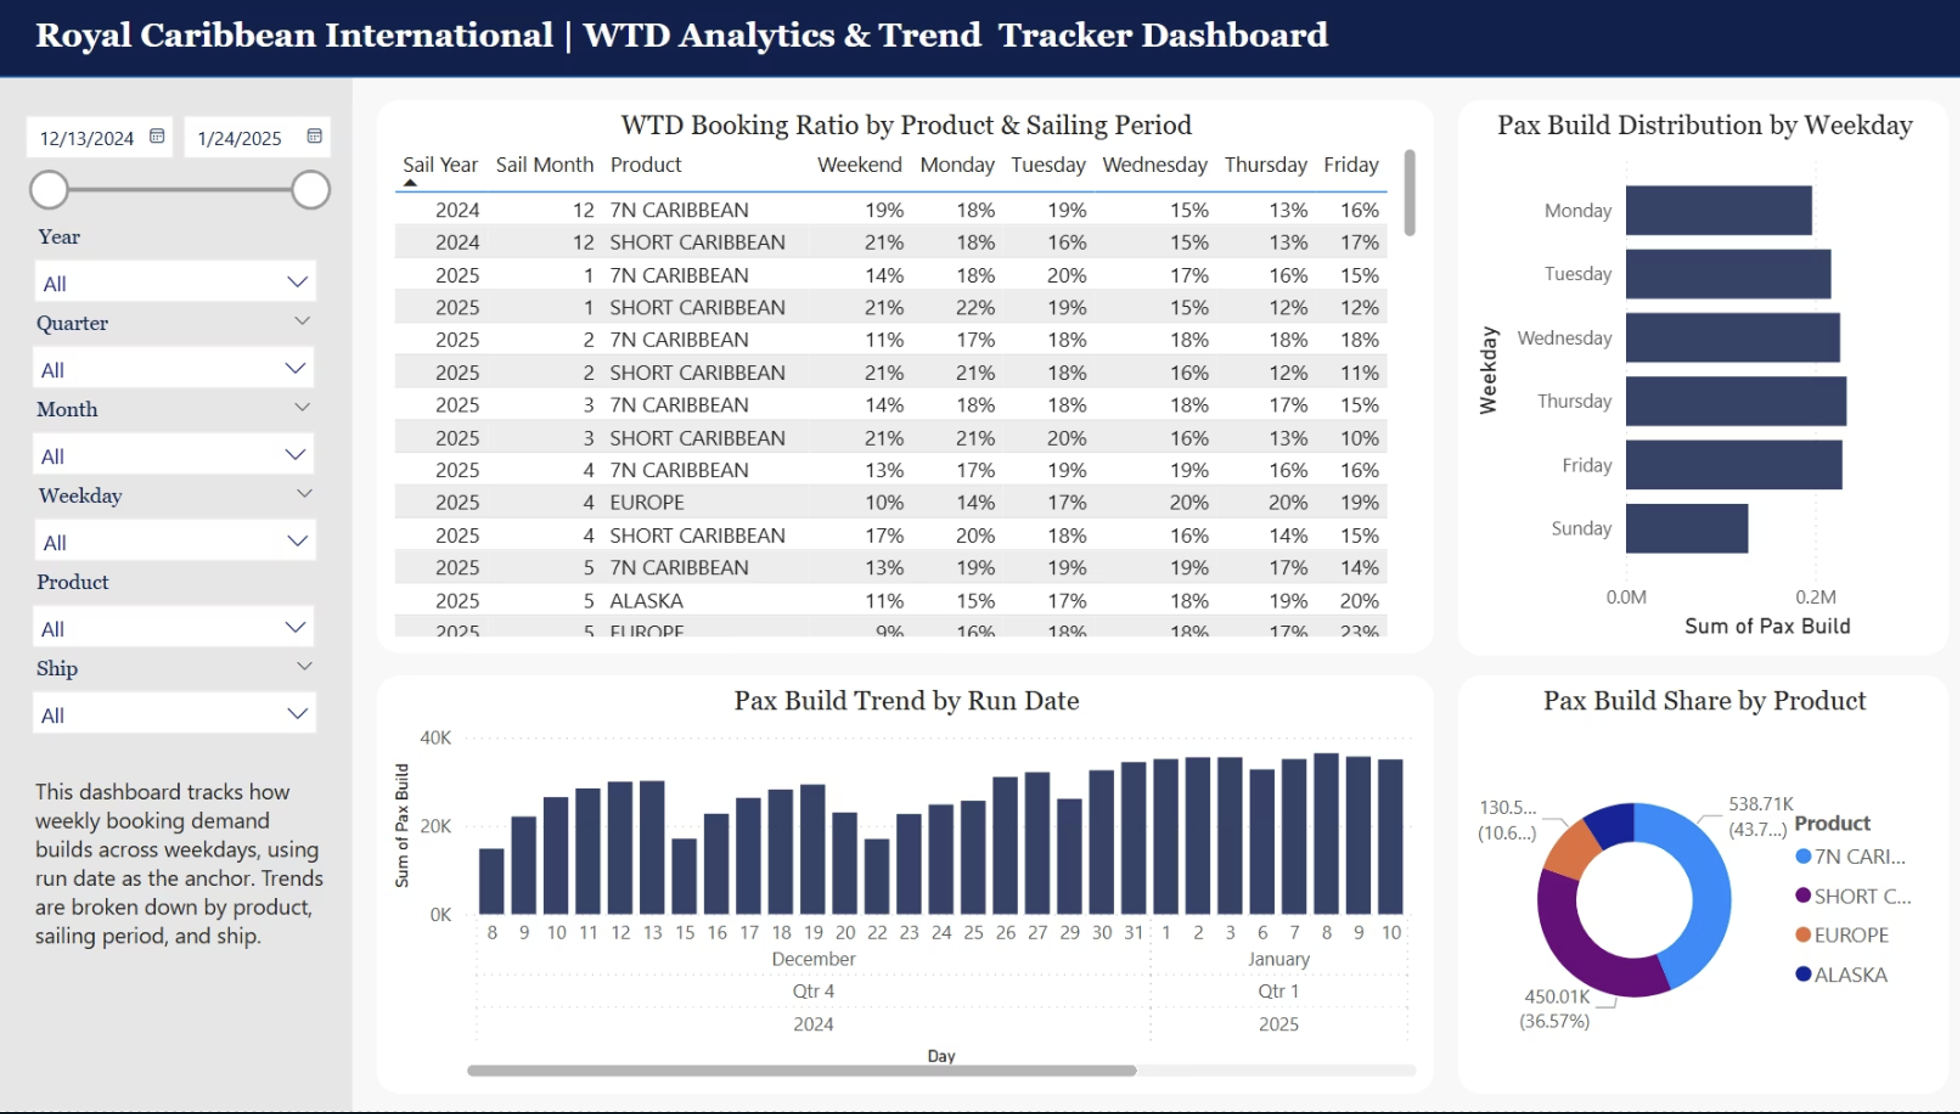

The page's visual inventory and layout, read from the dashboard file:
{"tool":"powerbi","page":{"name":"WTD Analytics & Trend  Tracker Dashboard","canvas":[1280,720],"ordinal":0},"visuals":[{"type":"shape","box":[0,52.9,232.9,667.1],"z":0},{"type":"slicer","fields":{"Values":["cleaned_pax_build_data.ship"]},"box":[15.7,421.4,204.3,77.1],"z":4000},{"type":"slicer","fields":{"Values":["cleaned_pax_build_data.meta_product_code"]},"box":[15.7,365.7,202.9,74.3],"z":5000},{"type":"slicer","fields":{"Values":["Weekday Sort.weekday_name"]},"box":[17.1,310,202.9,61.4],"z":6000},{"type":"shape","box":[0,0,1280,52.9],"z":9000},{"type":"textbox","box":[22.9,8.6,1132.9,37.1],"z":10000},{"type":"slicer","fields":{"Values":["cleaned_pax_build_data.calendar_week"]},"box":[8.6,67.1,218.6,117.1],"z":11000},{"type":"slicer","fields":{"Values":["cleaned_pax_build_data.run_date.Variation.Date Hierarchy.Year"]},"box":[17.1,142.9,202.9,61.4],"z":12000},{"type":"slicer","fields":{"Values":["cleaned_pax_build_data.run_date.Variation.Date Hierarchy.Quarter"]},"box":[15.7,198.6,202.9,61.4],"z":13000},{"type":"slicer","fields":{"Values":["cleaned_pax_build_data.run_date.Variation.Date Hierarchy.Month"]},"box":[15.7,254.3,202.9,61.4],"z":14000},{"type":"textbox","box":[22.9,498.6,197.1,167.1],"z":15000},{"type":"tableEx","title":"WTD Booking Ratio by Product & Sailing Period","fields":{"Values":["cleaned_pax_build_data.sail_year","cleaned_pax_build_data.sail_month","cleaned_pax_build_data.meta_product_code","DAX.Weekend","DAX.Monday","DAX.Tuesday","DAX.Wednesday","DAX.Thursday","DAX.Friday"]},"box":[248.6,67.1,682.9,357.1],"z":16000},{"type":"clusteredBarChart","title":"Pax Build Distribution by Weekday","fields":{"Y":["Sum(cleaned_pax_build_data.pax_build)"],"Category":["Weekday Sort.weekday_name"]},"box":[947.1,67.1,317.1,358.6],"z":16500},{"type":"clusteredColumnChart","title":"Pax Build Trend by Run Date","fields":{"Category":["cleaned_pax_build_data.run_date.Variation.Date Hierarchy.Year","cleaned_pax_build_data.run_date.Variation.Date Hierarchy.Quarter","cleaned_pax_build_data.run_date.Variation.Date Hierarchy.Month","cleaned_pax_build_data.run_date.Variation.Date Hierarchy.Day"],"Y":["Sum(cleaned_pax_build_data.pax_build)"]},"box":[248.6,438.6,682.9,270],"z":17000},{"type":"donutChart","title":"Pax Build Share by Product","fields":{"Category":["cleaned_pax_build_data.meta_product_code"],"Y":["Sum(cleaned_pax_build_data.pax_build)"]},"box":[947.1,438.6,317.1,270],"z":17500}]}

Visuals, with their boxes in screenshot pixels (x1, y1, x2, y2), scaled from the page's 1280x720 canvas onto the 1960x1114 screenshot:
shape: l=0, t=82, r=357, b=1113
slicer - cleaned_pax_build_data.ship: l=24, t=652, r=337, b=771
slicer - cleaned_pax_build_data.meta_product_code: l=24, t=566, r=335, b=681
slicer - Weekday Sort.weekday_name: l=26, t=480, r=337, b=575
shape: l=0, t=0, r=1959, b=82
textbox: l=35, t=13, r=1770, b=71
slicer - cleaned_pax_build_data.calendar_week: l=13, t=104, r=348, b=285
slicer - cleaned_pax_build_data.run_date.Variation.Date Hierarchy.Year: l=26, t=221, r=337, b=316
slicer - cleaned_pax_build_data.run_date.Variation.Date Hierarchy.Quarter: l=24, t=307, r=335, b=402
slicer - cleaned_pax_build_data.run_date.Variation.Date Hierarchy.Month: l=24, t=393, r=335, b=488
textbox: l=35, t=771, r=337, b=1030
"WTD Booking Ratio by Product & Sailing Period" tableEx: l=381, t=104, r=1426, b=656
"Pax Build Distribution by Weekday" clusteredBarChart: l=1450, t=104, r=1936, b=659
"Pax Build Trend by Run Date" clusteredColumnChart: l=381, t=679, r=1426, b=1096
"Pax Build Share by Product" donutChart: l=1450, t=679, r=1936, b=1096
